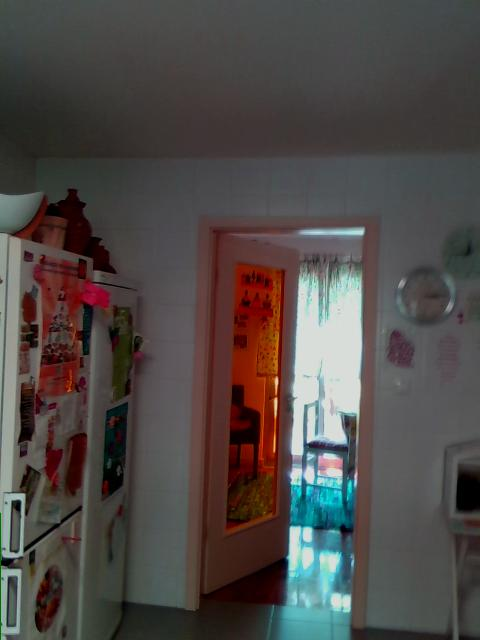semi_door: (180, 212, 376, 639)
